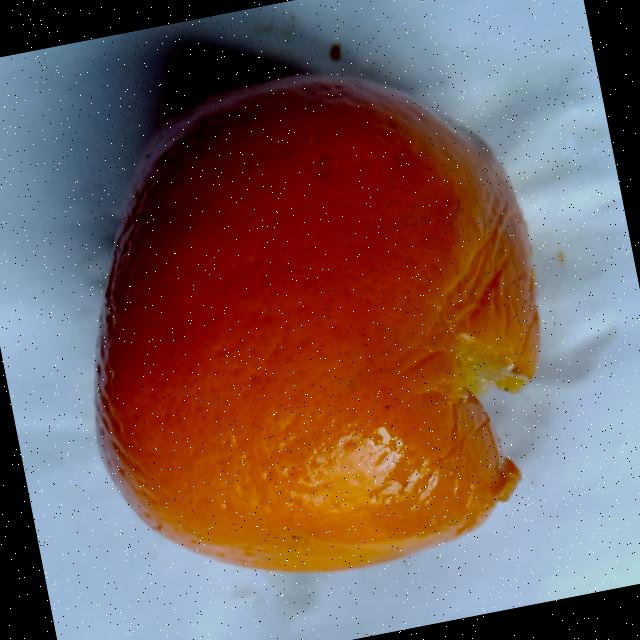Rotten: (29, 32, 586, 618)
